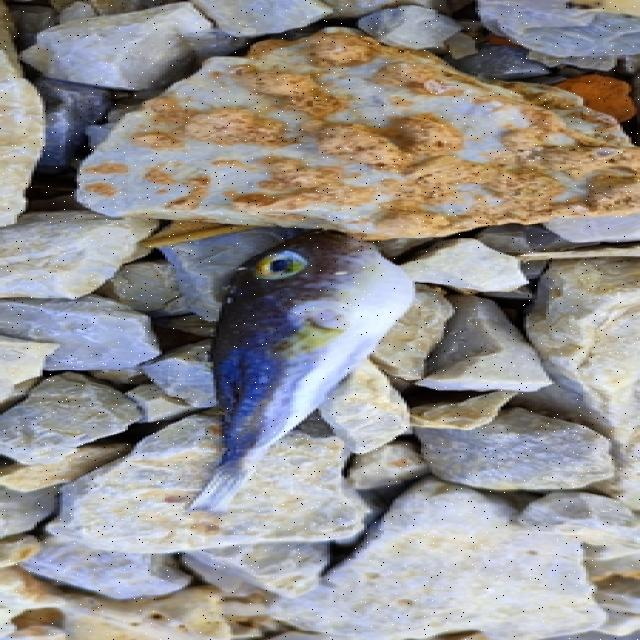Balik: (191, 232, 415, 513)
